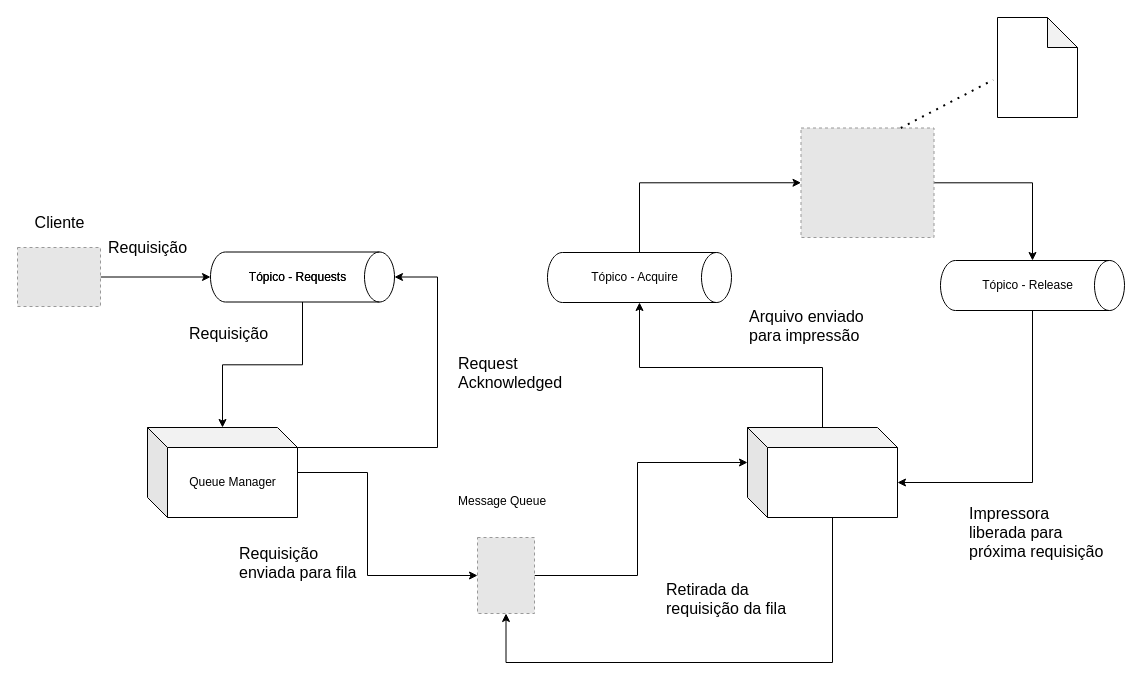
This 1142x688 diagram has some shape labels left out. Grey dashed boxes stand in for pictures. The centre of each missing label's shape, as x and y in pixels:
"Impressão dos arquivos" belongs at point (1037, 67).
"Printer Manager" belongs at point (822, 472).
